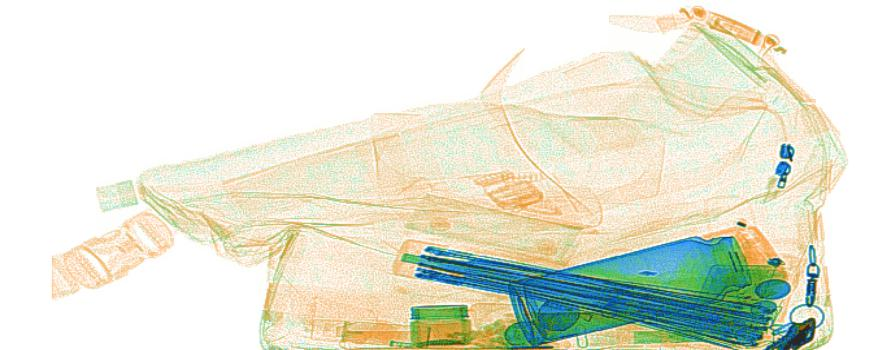USBFlashDisk: (633, 323, 706, 345)
pressure: (309, 318, 437, 347)
